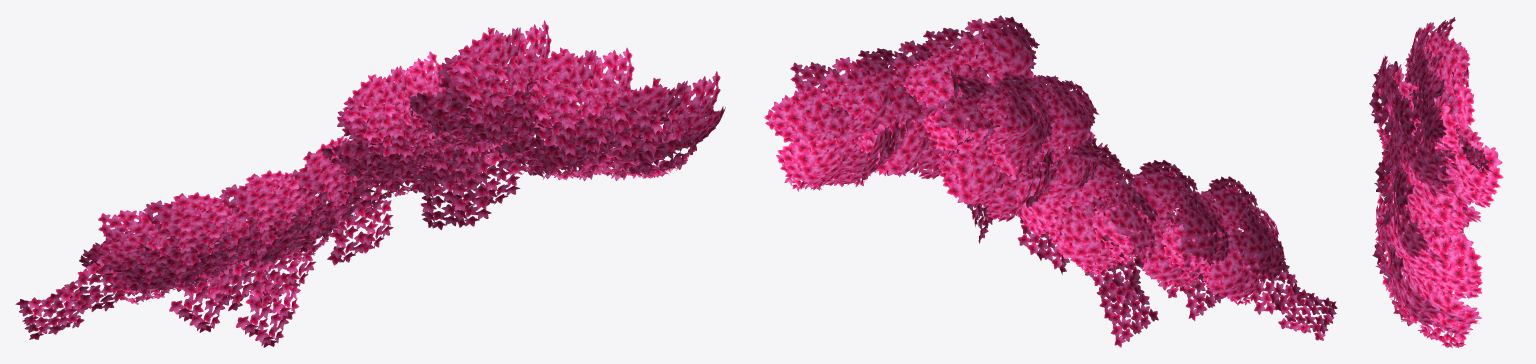
File: SM_Flowers_05.fbx
3 renders of one model, left to right at view 1: azimuth 30°, elevation 25°; view 2: azimuth 150°, elevation 25°; view 3: azimuth 270°, elevation 25°, orthographic. The views are drawn at different scales.
Parts seen in each view (by area): view 1: SM_Flowers_05_LOD0; view 2: SM_Flowers_05_LOD0; view 3: SM_Flowers_05_LOD0.
Part boxes in pixels (bbox=[...]): SM_Flowers_05_LOD0: bbox=[15, 20, 725, 347]; SM_Flowers_05_LOD0: bbox=[764, 15, 1337, 347]; SM_Flowers_05_LOD0: bbox=[1369, 17, 1503, 348].
Bounding box in the file's own units: 736 × 157 × 326.
